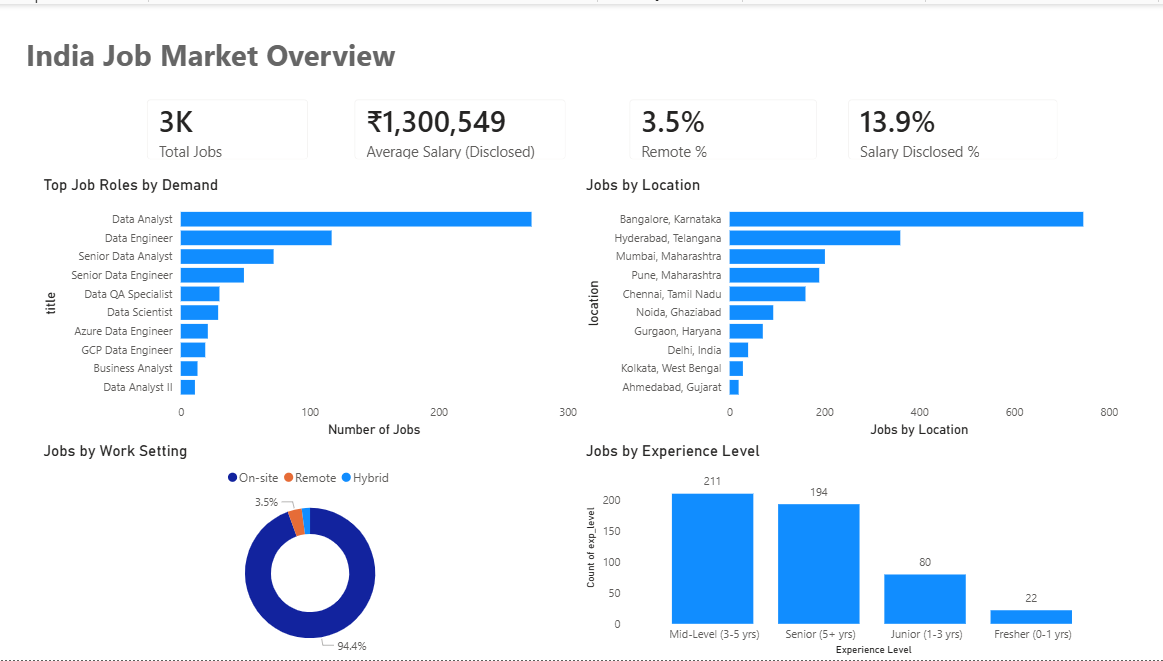

The page's visual inventory and layout, read from the dashboard file:
{"tool":"powerbi","page":{"name":"Job Market Overview","canvas":[1280,720],"ordinal":0},"visuals":[{"type":"cardVisual","fields":{"Data":["power_bi_dataset.Total Jobs"]},"box":[145.5,87.8,211.3,100.2],"z":0},{"type":"cardVisual","title":"Average Salary (Disclosed)","fields":{"Data":["power_bi_dataset.Avg Salary Display"]},"box":[373.2,87.8,266.2,100.2],"z":1},{"type":"cardVisual","fields":{"Data":["power_bi_dataset.Remote %"]},"box":[675.1,87.8,240.1,100.2],"z":2},{"type":"cardVisual","fields":{"Data":["power_bi_dataset.Salary Disclosed %"]},"box":[915.3,87.8,264.8,100.2],"z":3},{"type":"clusteredBarChart","title":"Top Job Roles by Demand","fields":{"Category":["power_bi_dataset.title"],"Y":["CountNonNull(power_bi_dataset.title)"]},"box":[43.9,188,595.5,292.3],"z":4},{"type":"clusteredBarChart","title":"Jobs by Location","fields":{"Category":["power_bi_dataset.location"],"Y":["CountNonNull(power_bi_dataset.location)"]},"box":[639.5,188,594.2,292.3],"z":5},{"type":"donutChart","title":"Jobs by Work Setting","fields":{"Category":["power_bi_dataset.work_setting"],"Y":["CountNonNull(power_bi_dataset.work_setting)"]},"box":[43.9,480.3,595.5,240.1],"z":6},{"type":"clusteredColumnChart","title":"Jobs by Experience Level","fields":{"Category":["power_bi_dataset.exp_level"],"Y":["CountNonNull(power_bi_dataset.exp_level)"]},"box":[639.5,480.3,594.2,240.1],"z":7},{"type":"textbox","box":[24.7,28.8,510.5,59],"z":8}]}

Visuals, with their boxes in screenshot pixels (x1, y1, x2, y2), scaled from the page's 1280x720 canvas onto the 1163x661 screenshot:
cardVisual - power_bi_dataset.Total Jobs: [132,81,324,173]
"Average Salary (Disclosed)" cardVisual: [339,81,581,173]
cardVisual - power_bi_dataset.Remote %: [613,81,832,173]
cardVisual - power_bi_dataset.Salary Disclosed %: [832,81,1072,173]
"Top Job Roles by Demand" clusteredBarChart: [40,173,581,441]
"Jobs by Location" clusteredBarChart: [581,173,1121,441]
"Jobs by Work Setting" donutChart: [40,441,581,660]
"Jobs by Experience Level" clusteredColumnChart: [581,441,1121,660]
textbox: [22,26,486,81]
